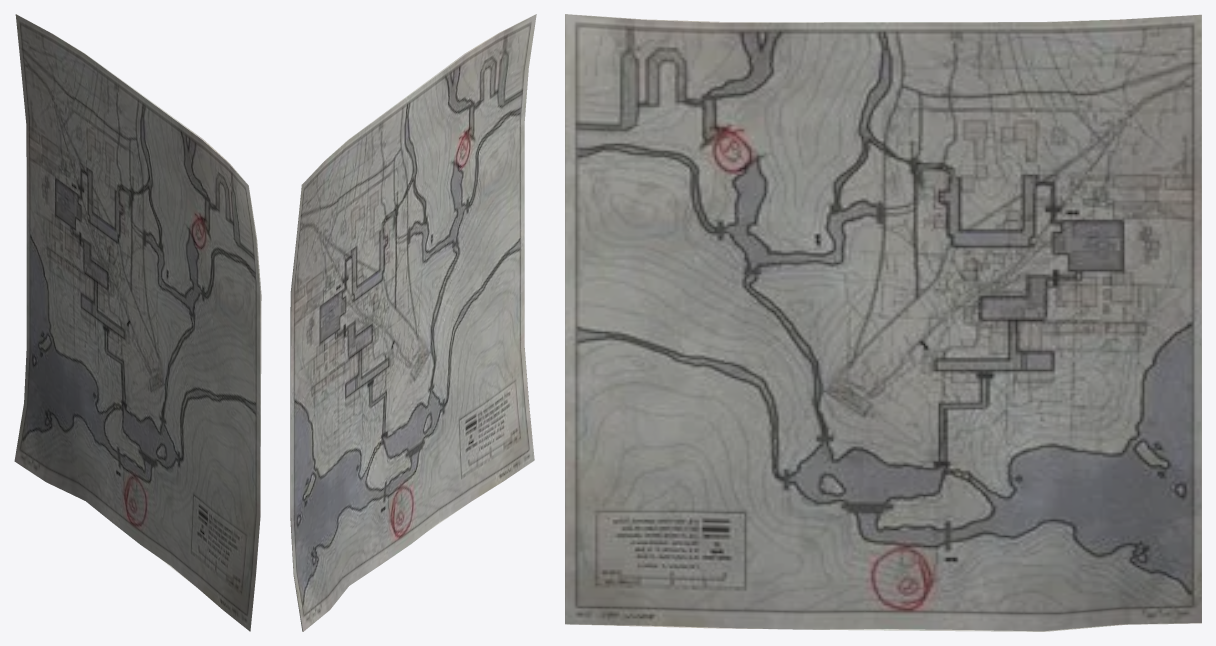
The model's file is canalmap001.glb.
The picture shows the model from 3 angles, left to right: view 1: azimuth 30°, elevation 25°; view 2: azimuth 150°, elevation 25°; view 3: azimuth 270°, elevation 25°; orthographic projection. The views are drawn at different scales.
Visible parts, largest first — view 1: 0_canalmap_sheet; view 2: 0_canalmap_sheet; view 3: 0_canalmap_sheet.
Boxes of the visible parts, x1,y1,x2,y2 form: 0_canalmap_sheet: [14, 14, 261, 631]; 0_canalmap_sheet: [290, 14, 536, 631]; 0_canalmap_sheet: [565, 14, 1201, 631].
Size of the model in its own units: 0.0672 by 1.93 by 1.83.
1 material, 1 textured.
